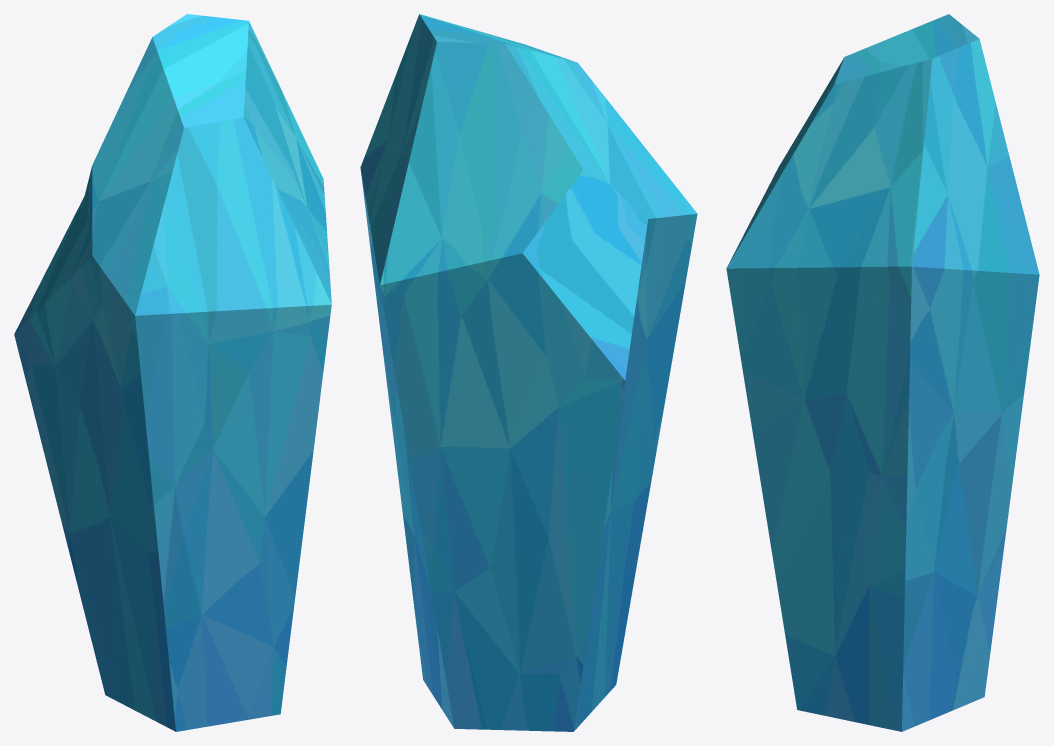
Rendered from Single_Ice_Block.fbx.
3 views of the same model, side by side, from view 1: azimuth 30°, elevation 25°; view 2: azimuth 150°, elevation 25°; view 3: azimuth 270°, elevation 25° (orthographic). The views are drawn at different scales.
Parts seen in each view (by area): view 1: IceBlock; view 2: IceBlock; view 3: IceBlock.
Boxes of the visible parts, bbox=[...] form: IceBlock: bbox=[14, 14, 331, 731]; IceBlock: bbox=[360, 14, 697, 731]; IceBlock: bbox=[726, 14, 1039, 731].
Size of the model in its own units: 522 by 1143 by 485.
